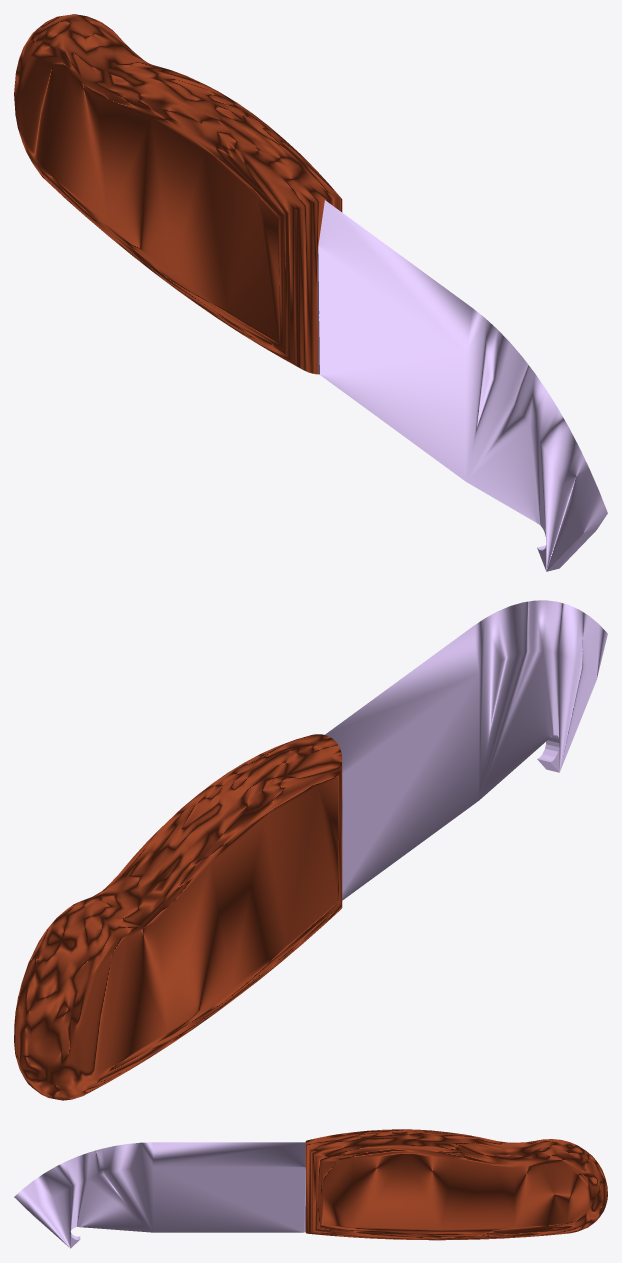
Rendered from model_align.obj.
3 renders of one model, top to bottom at view 1: azimuth 30°, elevation 25°; view 2: azimuth 150°, elevation 25°; view 3: azimuth 270°, elevation 25°, orthographic. The views are drawn at different scales.
Size of the model in its own units: 0.012 by 0.0432 by 0.2002.
